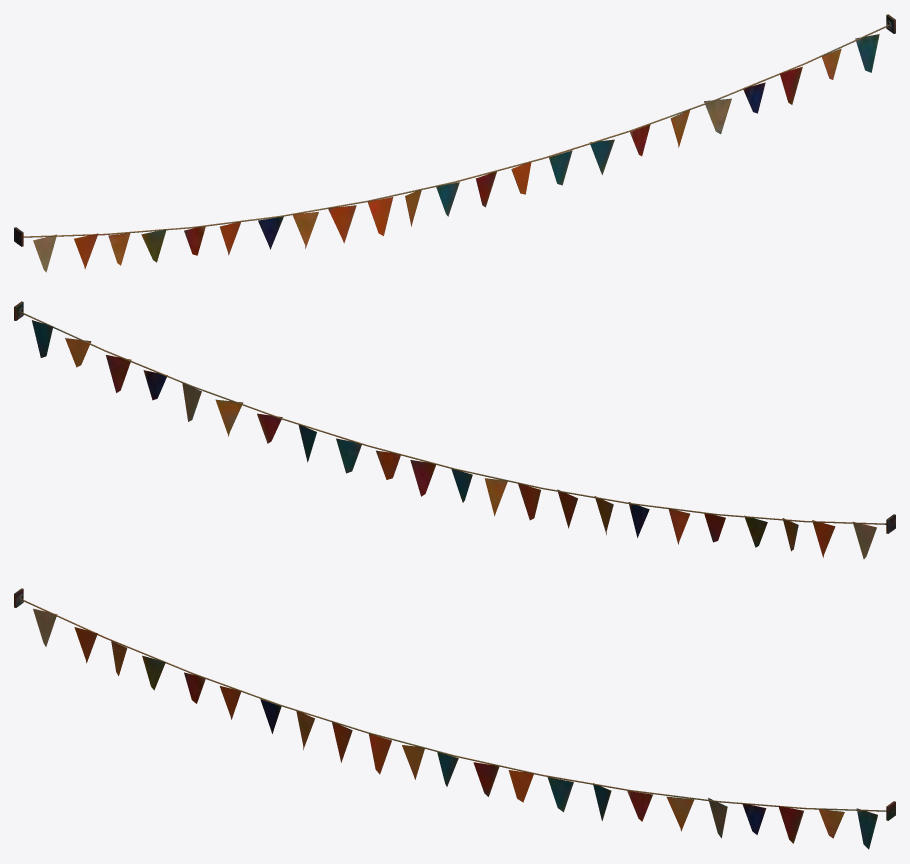
The model's file is bunting.glb.
The picture shows the model from 3 angles, top to bottom: view 1: azimuth 30°, elevation 25°; view 2: azimuth 150°, elevation 25°; view 3: azimuth 330°, elevation 25°; orthographic projection.
Visible parts, largest first — view 1: bunting; view 2: bunting; view 3: bunting.
Part boxes in pixels (<box>): bunting: <box>14,14,895,272</box>; bunting: <box>14,301,895,559</box>; bunting: <box>14,588,895,849</box>.
Size of the model in its own units: 8 by 0.8243 by 0.12.
Materials: 1 (1 with a texture image).
